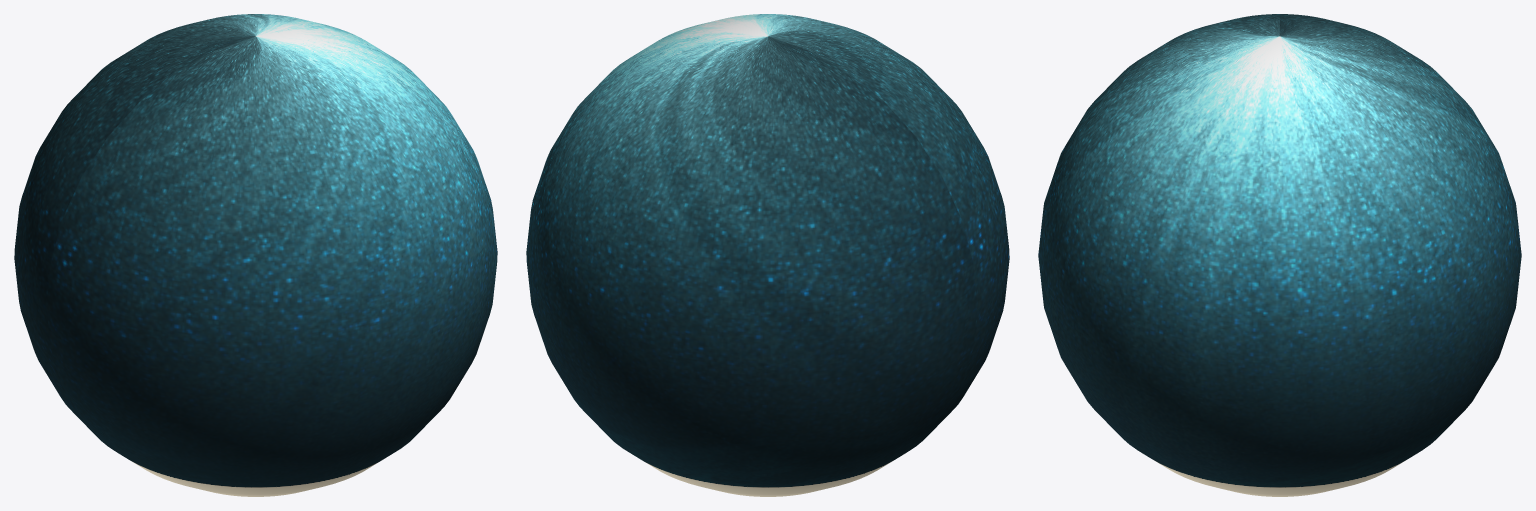
The model's file is DeepSea.gltf.
3 renders of one model, left to right at view 1: azimuth 30°, elevation 25°; view 2: azimuth 150°, elevation 25°; view 3: azimuth 270°, elevation 25°, orthographic.
Visible parts, largest first — view 1: 球; view 2: 球; view 3: 球.
Part boxes in pixels (x1,y1,x2,y2): 球: (14, 14, 497, 496); 球: (526, 14, 1009, 496); 球: (1038, 14, 1521, 496).
Size of the model in its own units: 2 by 2 by 2.
Materials: 1 (1 with a texture image).
